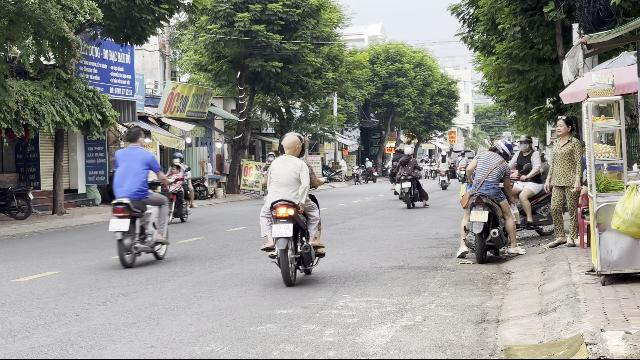helmet: (489, 136, 513, 160), (170, 152, 182, 167)
licenseplate: (108, 219, 130, 231), (272, 223, 292, 236), (470, 210, 488, 221)
motorcyclist: (256, 131, 328, 284), (105, 124, 172, 268), (454, 135, 520, 263), (162, 152, 194, 224)
nohelmet: (123, 126, 147, 148), (280, 132, 302, 156)
